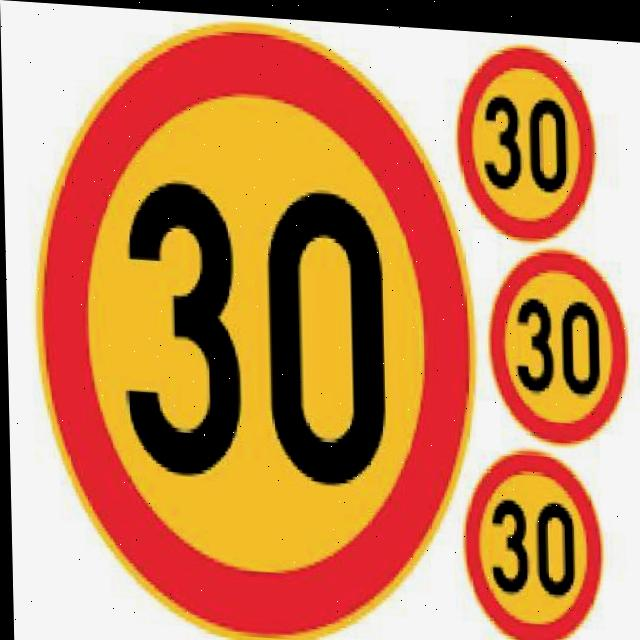Speed limit 30: (27, 5, 480, 640), (455, 32, 604, 242), (485, 235, 632, 445), (457, 439, 609, 640)
